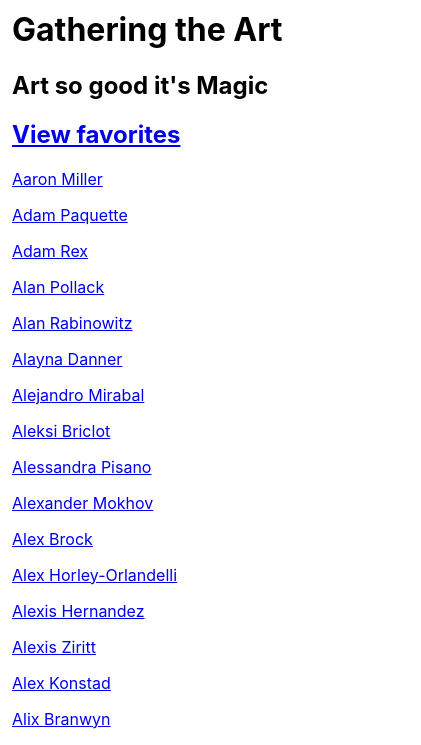
Test: favoriteDisplay › should be able to visit the favorites page from the home page by clicking the View favorites button
Click the heading "View favorites" at (96, 135), box [12,120,180,149]
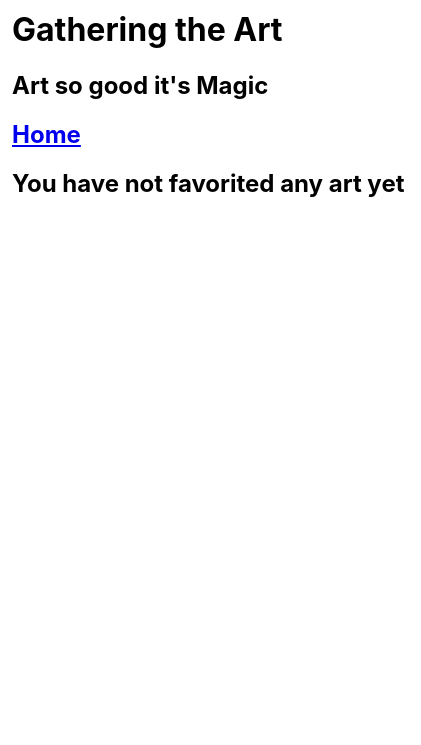
Result: the heading "You have not favorited any art yet" is shown at [12,169,404,198]
